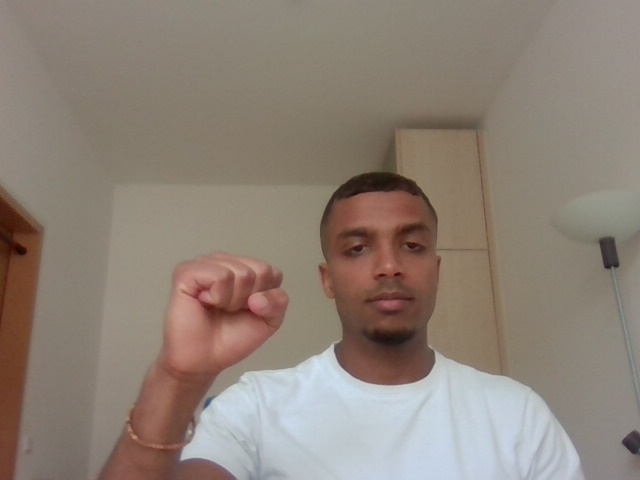maybe: (142, 234, 305, 392)
